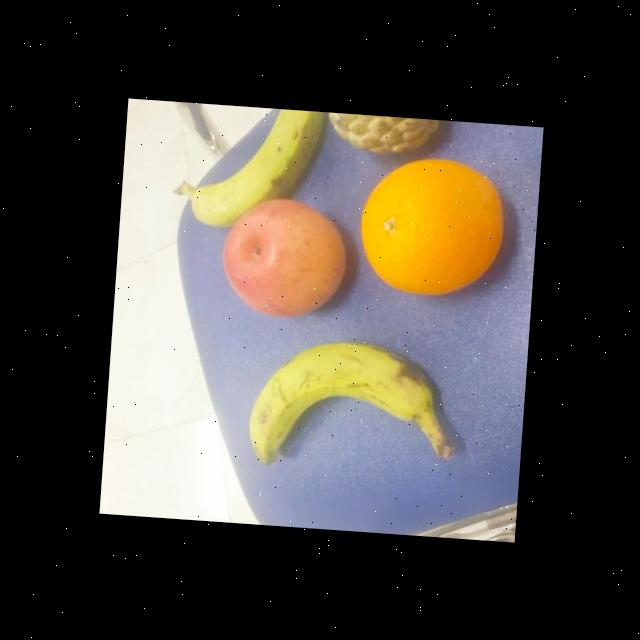Sakya fruit: (320, 112, 442, 159)
apple: (217, 194, 350, 322)
banana: (243, 332, 437, 480), (180, 103, 320, 240)
orange: (354, 152, 509, 300)
